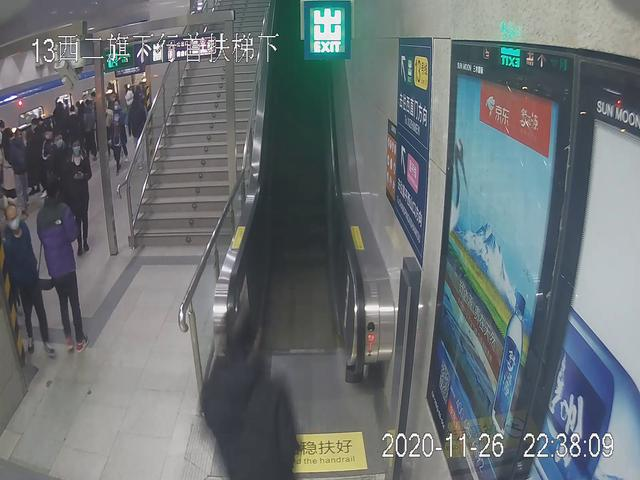person: (34, 179, 87, 353), (1, 195, 58, 356), (65, 136, 92, 255)
